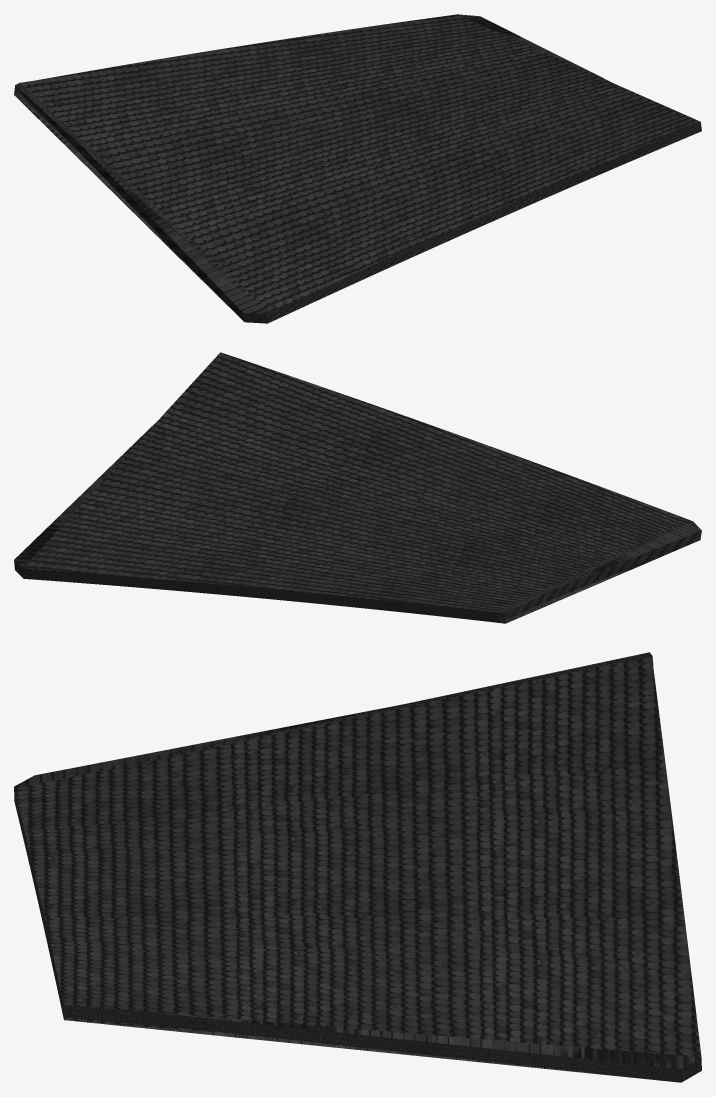
Rendered from TechoCentroComercial.obj.
The picture shows the model from 3 angles, top to bottom: view 1: azimuth 30°, elevation 25°; view 2: azimuth 150°, elevation 25°; view 3: azimuth 270°, elevation 25°; orthographic projection. The views are drawn at different scales.
Visible parts, largest first — view 1: Cube_Cube.002; view 2: Cube_Cube.002; view 3: Cube_Cube.002.
Boxes of the visible parts, left/top/right/bottom form: Cube_Cube.002: left=14, top=14, right=701, bottom=323; Cube_Cube.002: left=14, top=352, right=701, bottom=623; Cube_Cube.002: left=14, top=652, right=701, bottom=1082.
Size of the model in its own units: 38.98 by 6.67 by 32.92.
1 material, 1 textured.
